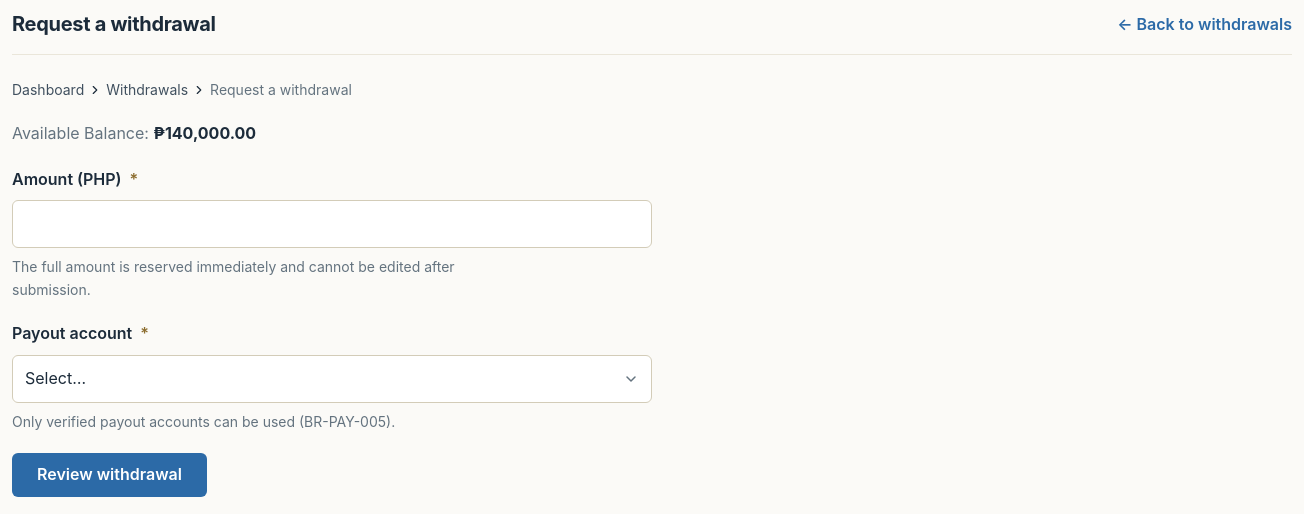
member WithdrawalRequestPage › validates the amount against the Available Balance before submission
In the field labelled "Amount (PHP)": {"x": 332, "y": 224} [12,200,652,248], type "150000.00"
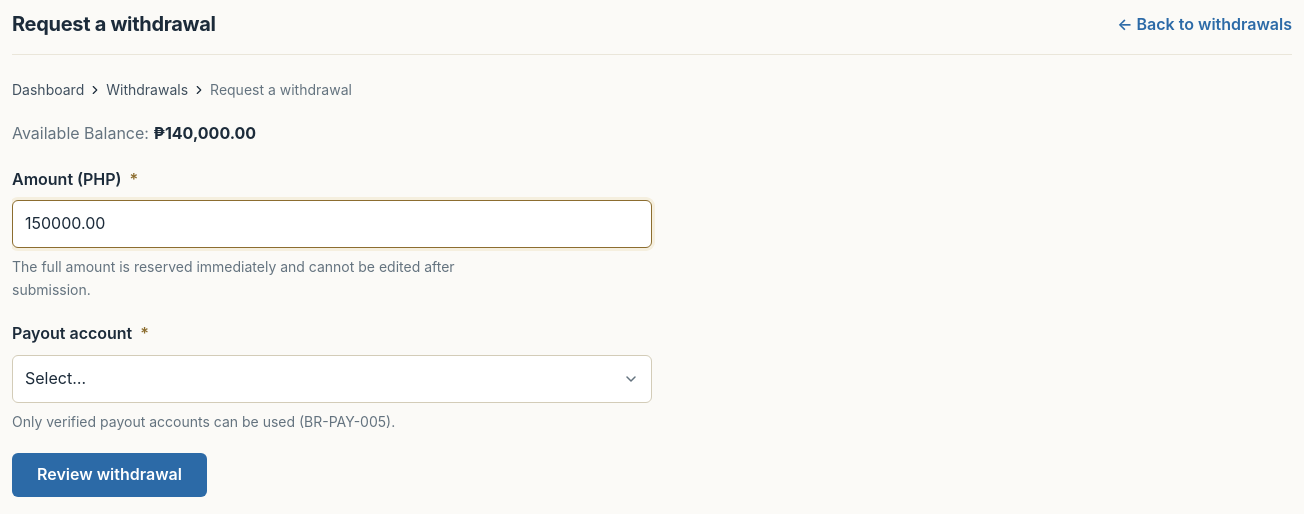
Select "Traditional bank · •••• 7890" in the dropdown labelled "Payout account": {"x": 332, "y": 378} [12,354,652,402]
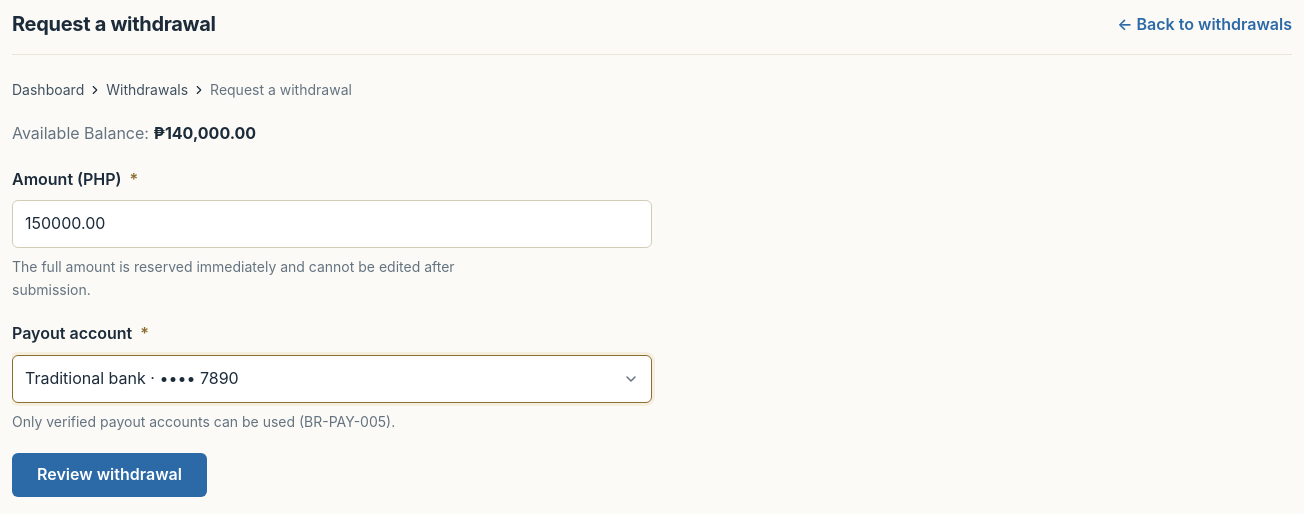
Click the button "Review withdrawal": {"x": 109, "y": 475} [12,453,207,497]
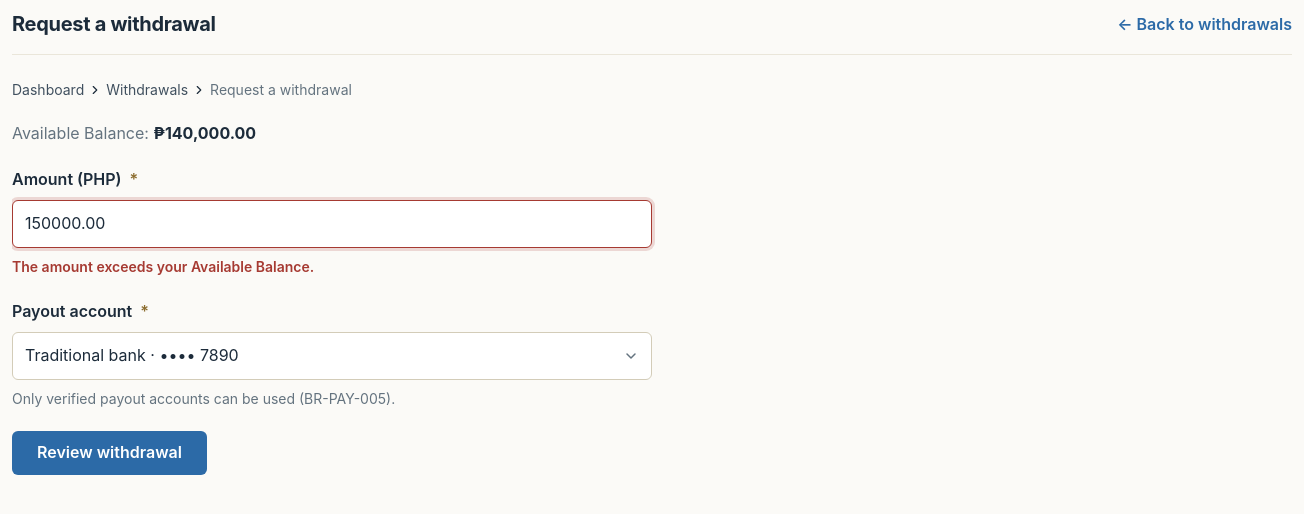
Now the text "The amount exceeds your Available Balance." is shown, box [12,258,314,275]
